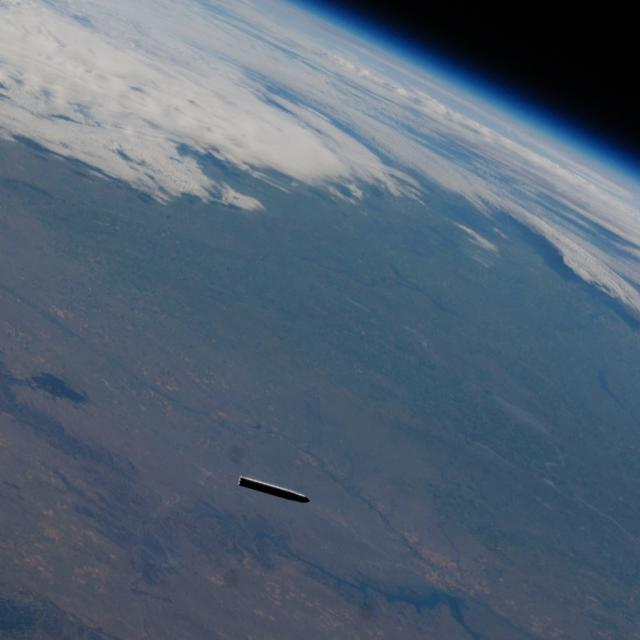rocket: (232, 466, 323, 513)
